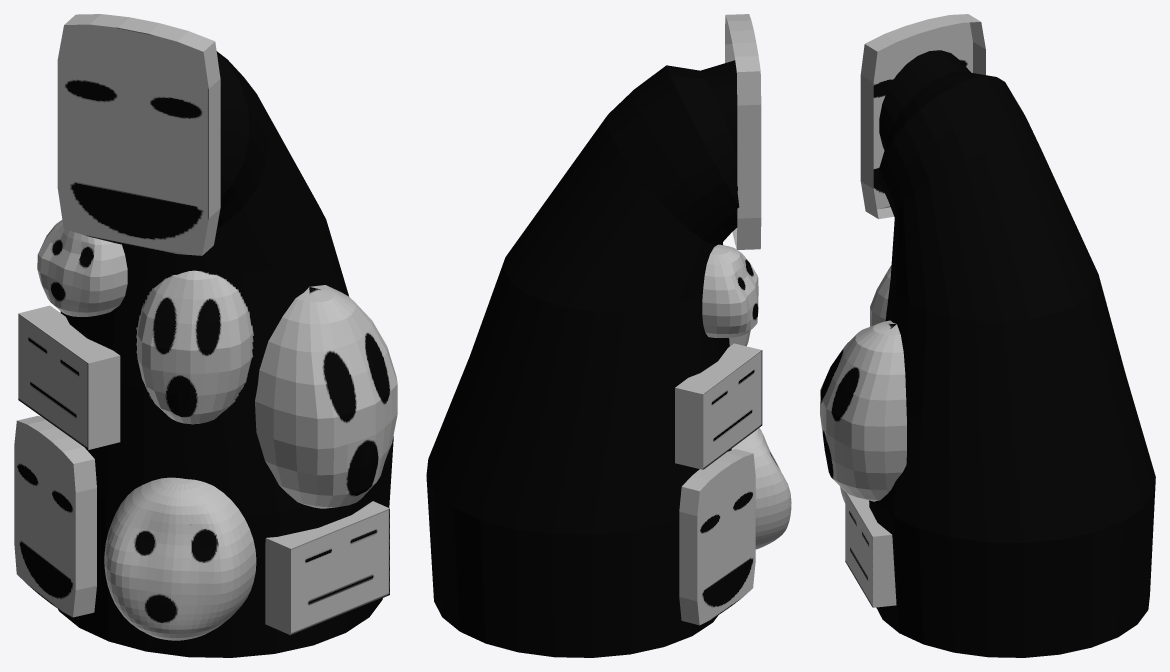
Rendered from presentation_audience.fbx.
The picture shows the model from 3 angles, left to right: view 1: azimuth 30°, elevation 25°; view 2: azimuth 150°, elevation 25°; view 3: azimuth 270°, elevation 25°; orthographic projection. The views are drawn at different scales.
Parts seen in each view (by area): view 1: Audience.001; view 2: Audience.001; view 3: Audience.001.
Boxes of the visible parts, box(x1,y1,x2,y2) form: Audience.001: box(14, 14, 397, 657); Audience.001: box(426, 14, 791, 657); Audience.001: box(820, 14, 1155, 657).
Size of the model in its own units: 1.89 by 3.4 by 1.99.
